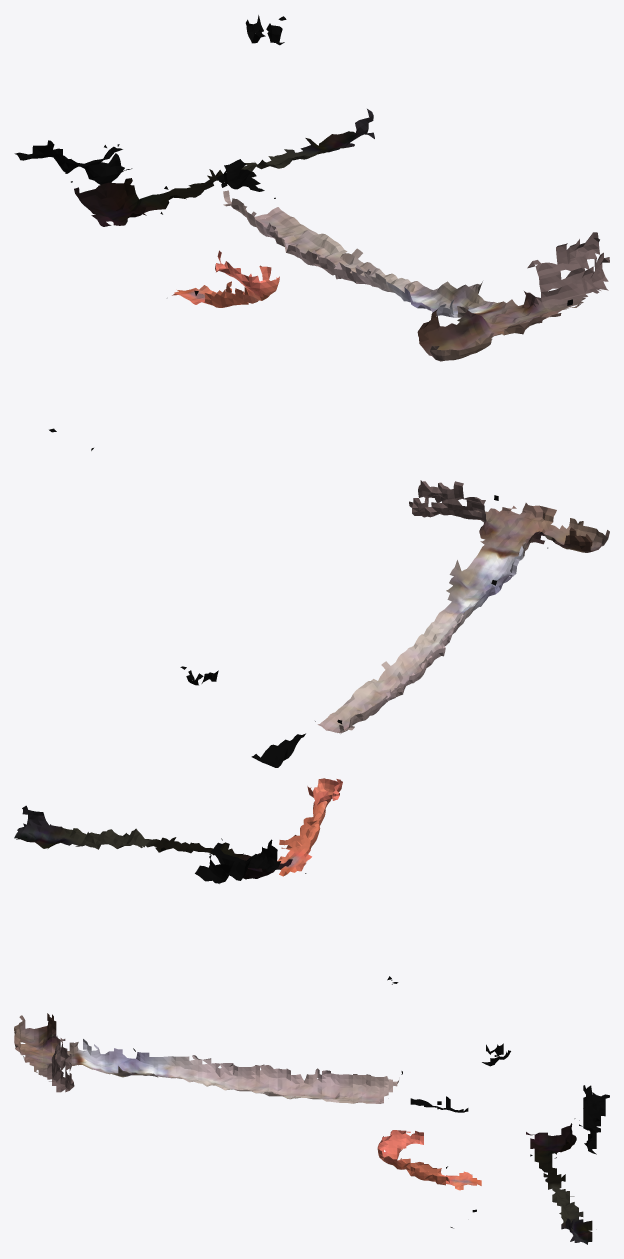
The model's file is hammer.obj.
3 views of the same model, one above another, from view 1: azimuth 30°, elevation 25°; view 2: azimuth 150°, elevation 25°; view 3: azimuth 270°, elevation 25° (orthographic). The views are drawn at different scales.
Bounding box in the file's own units: 11.17 × 9.76 × 20.69.
Materials: 1 (1 with a texture image).
